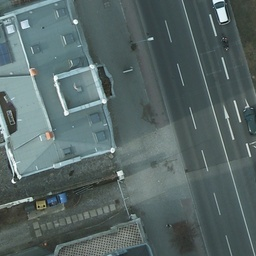car: (213, 1, 230, 25), (242, 106, 256, 135)
